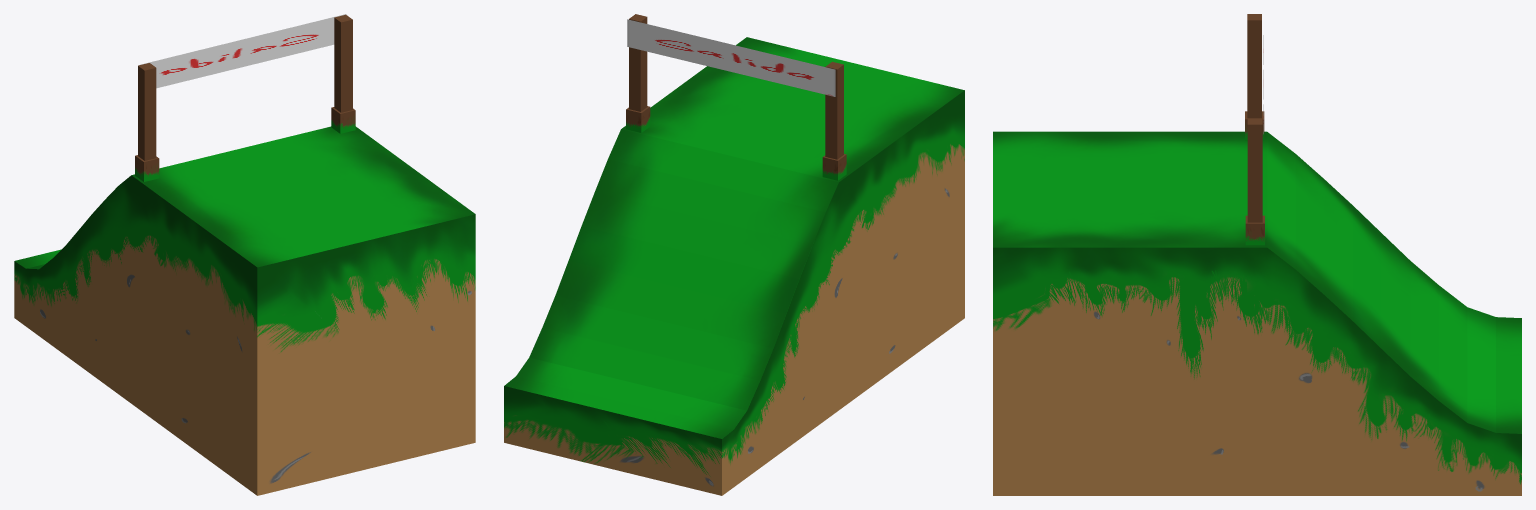
File: Montaña_inicio.fbx
3 renders of one model, left to right at view 1: azimuth 30°, elevation 25°; view 2: azimuth 150°, elevation 25°; view 3: azimuth 270°, elevation 25°, orthographic. The views are drawn at different scales.
Visible parts, largest first — view 1: Montaña, Cartel_inicio, Base 1, Base 2; view 2: Montaña, Cartel_inicio, Base 2, Base 1; view 3: Montaña, Base 1, Base 2.
Part boxes in pixels (box(x1,y1,x2,y2)): Montaña: box(14, 126, 475, 495); Cartel_inicio: box(139, 14, 346, 88); Base 1: box(331, 14, 355, 133); Base 2: box(135, 63, 159, 181); Montaña: box(504, 37, 964, 495); Cartel_inicio: box(627, 19, 835, 96); Base 2: box(822, 61, 846, 180); Base 1: box(626, 14, 650, 132); Montaña: box(993, 131, 1521, 495); Base 1: box(1245, 118, 1264, 245); Base 2: box(1245, 14, 1264, 140).
Bounding box in the file's own units: 748 × 1108 × 1442.
